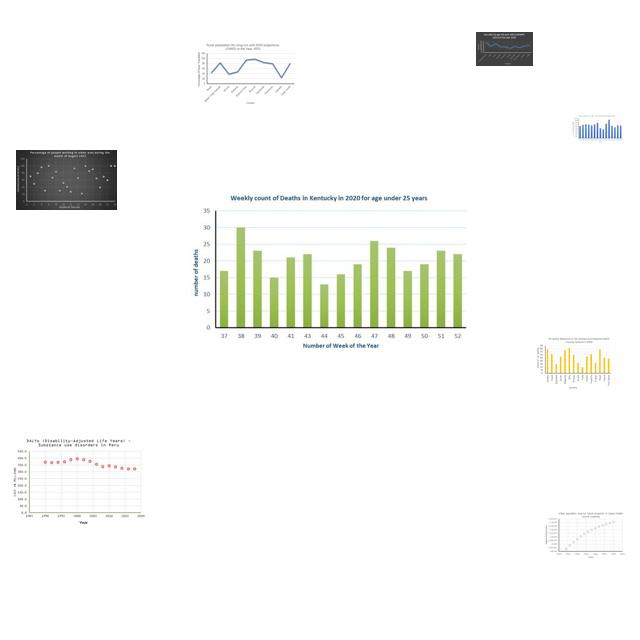Graph: (186, 189, 472, 355), (11, 437, 147, 525), (195, 42, 296, 106), (16, 150, 117, 210), (541, 511, 626, 561), (535, 336, 612, 391), (476, 32, 533, 66), (571, 114, 623, 143)
